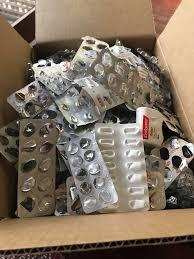pill_Strip: (95, 123, 148, 211), (65, 132, 117, 213), (17, 119, 56, 216), (7, 81, 52, 117), (0, 119, 19, 163)
